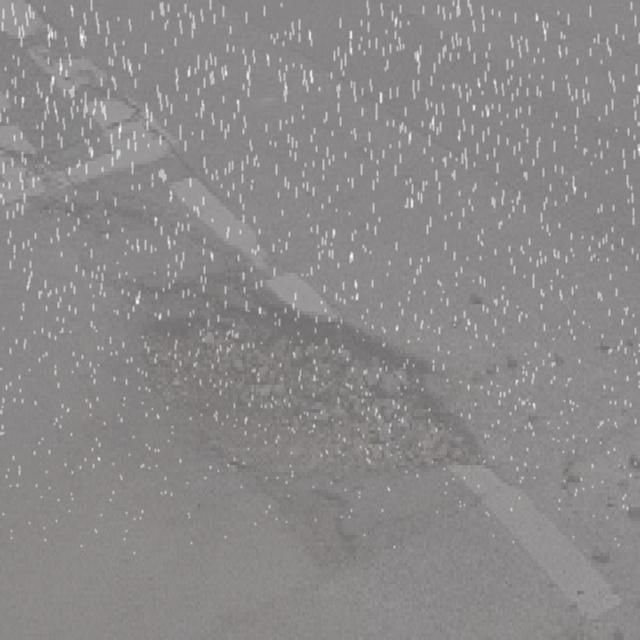Pothole: (129, 242, 519, 576)
